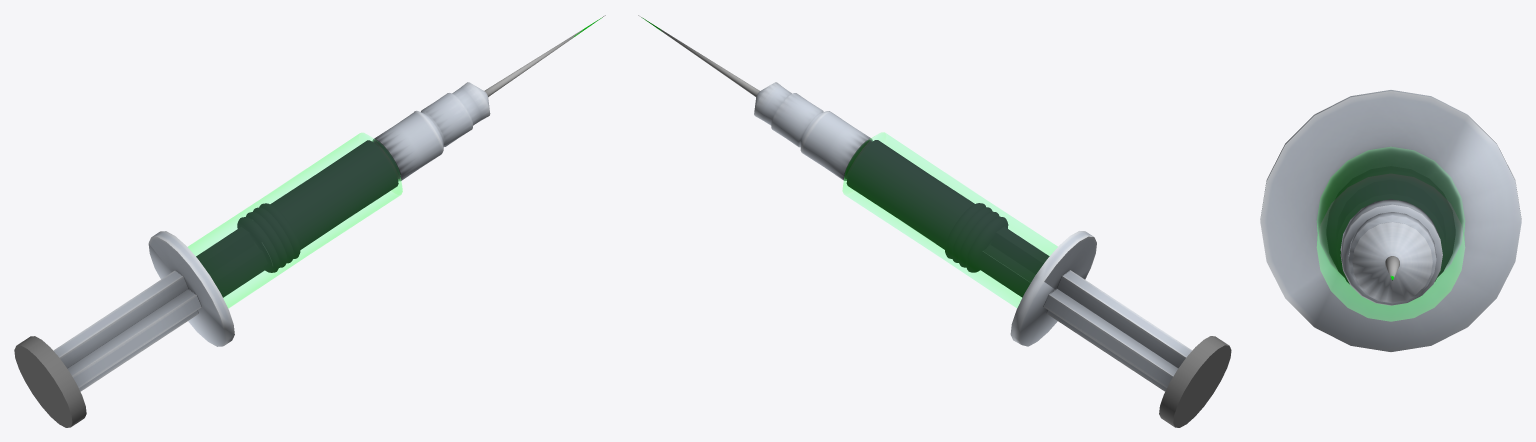
3 renders of one model, left to right at view 1: azimuth 30°, elevation 25°; view 2: azimuth 150°, elevation 25°; view 3: azimuth 270°, elevation 25°, orthographic. The views are drawn at different scales.
Parts seen in each view (by area): view 1: Object_2, Object_3; view 2: Object_2, Object_3; view 3: Object_2, Object_3.
Part boxes in pixels (box(x1,y1,x2,y2)): Object_2: box(14, 15, 605, 427); Object_3: box(188, 133, 402, 308); Object_2: box(638, 15, 1231, 427); Object_3: box(842, 132, 1057, 307); Object_2: box(1260, 90, 1521, 351); Object_3: box(1317, 147, 1464, 321).
Bounding box in the file's own units: 0.1847 × 0.084 × 0.0361.
2 materials, 2 textured.
